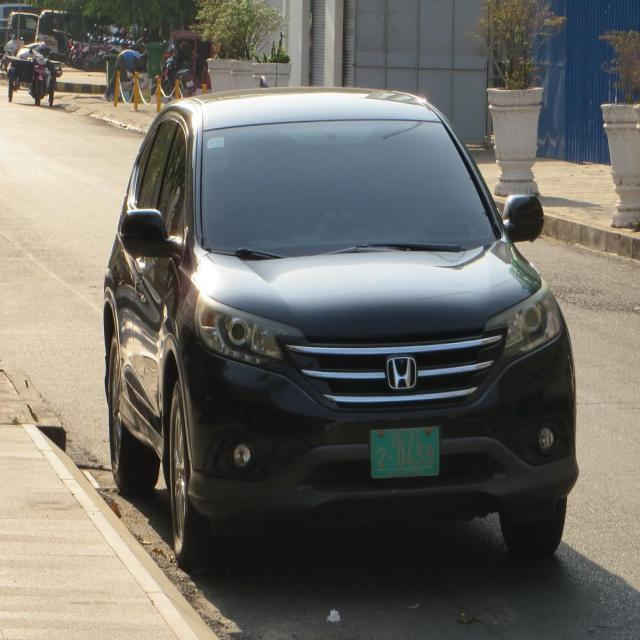State: (390, 430, 407, 447)
